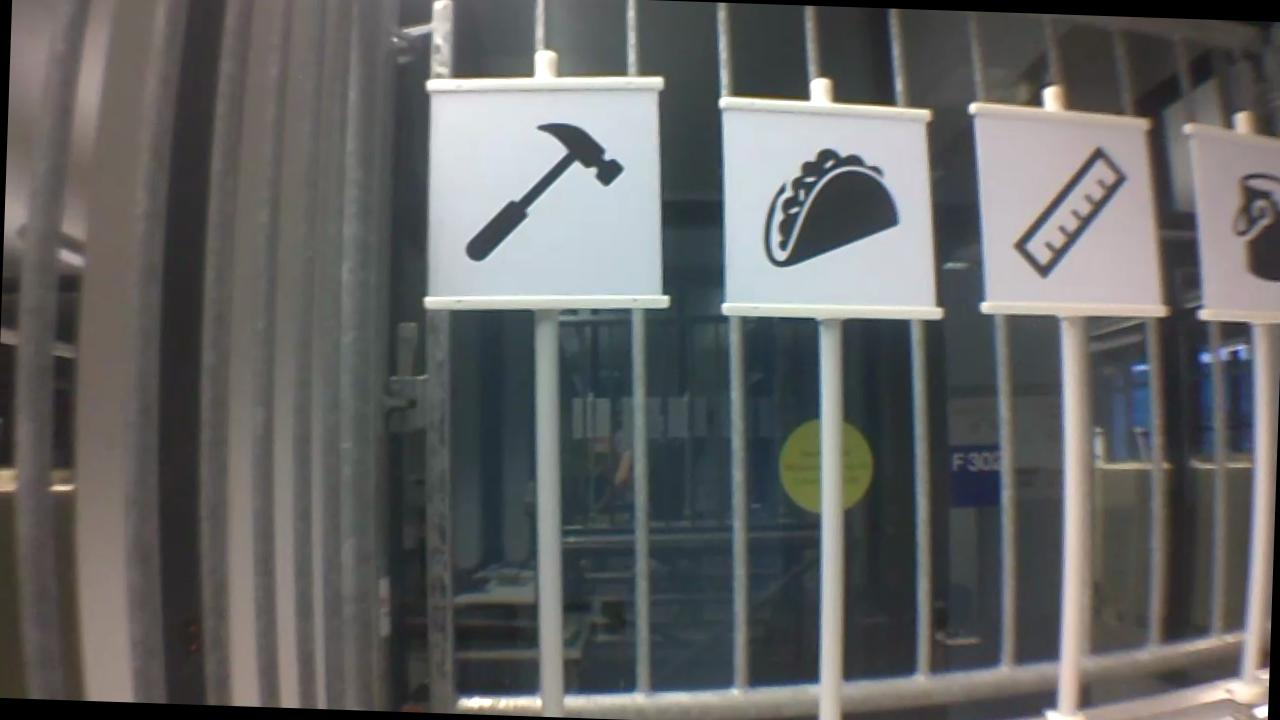bucket: (1222, 164, 1280, 286)
hammer: (454, 114, 631, 269)
ruler: (999, 136, 1134, 286)
taco: (757, 139, 907, 275)
